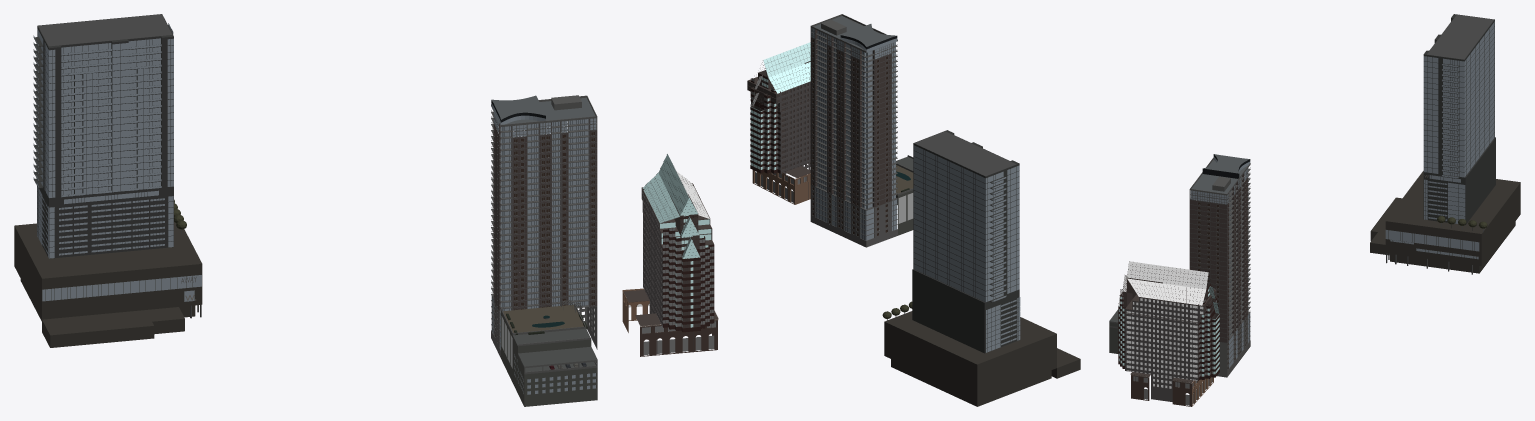
3 views of the same model, side by side, from view 1: azimuth 30°, elevation 25°; view 2: azimuth 150°, elevation 25°; view 3: azimuth 270°, elevation 25° (orthographic). The views are drawn at different scales.
Parts seen in each view (by area): view 1: opaque, glass; view 2: opaque, glass; view 3: opaque, glass.
Part boxes in pixels (<box>): opaque: <box>14,14,718,406</box>; glass: <box>33,23,715,394</box>; opaque: <box>747,14,1080,406</box>; glass: <box>750,28,1020,352</box>; opaque: <box>1109,14,1520,406</box>; glass: <box>1118,21,1494,405</box>.
Bounding box in the file's own units: 300 × 149 × 262.
Materials: 2 (2 with a texture image).
